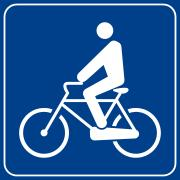Cycle Crossing: (14, 16, 164, 163)
